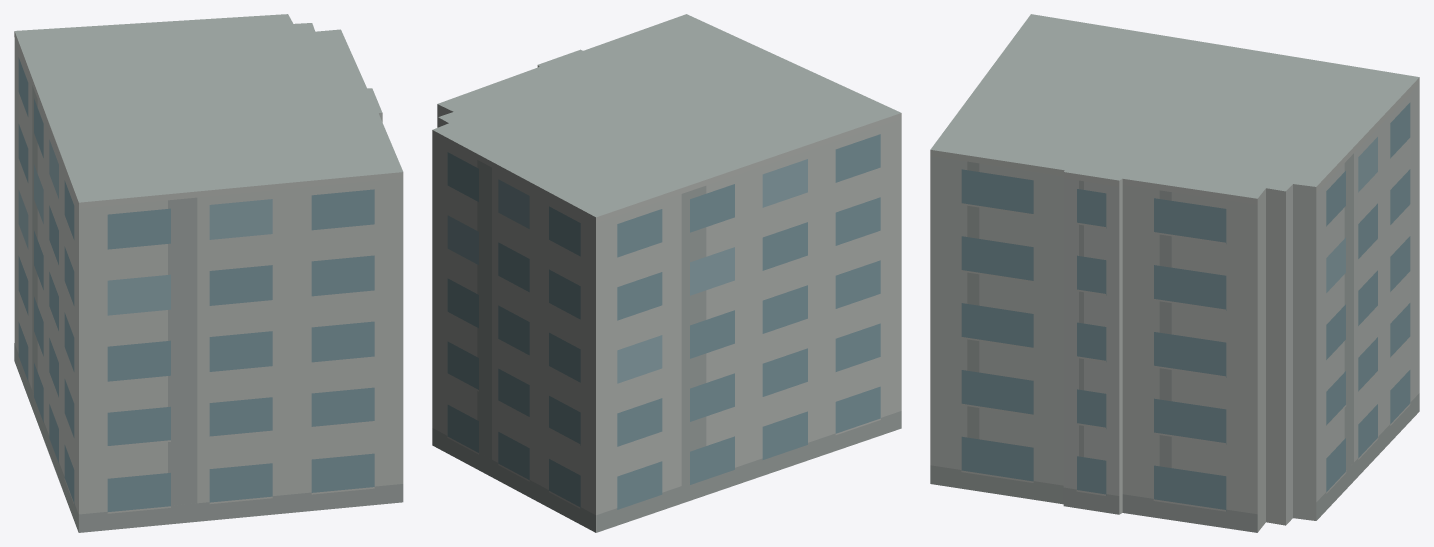
File: survey-upis-32852674.glb
3 renders of one model, left to right at view 1: azimuth 30°, elevation 25°; view 2: azimuth 150°, elevation 25°; view 3: azimuth 270°, elevation 25°, orthographic. The views are drawn at different scales.
Visible parts, largest first — view 1: survey-upis-32852674.tmp; view 2: survey-upis-32852674.tmp; view 3: survey-upis-32852674.tmp.
Part boxes in pixels (x1=…): survey-upis-32852674.tmp: x1=14, y1=14, x2=403, y2=532; survey-upis-32852674.tmp: x1=432, y1=14, x2=901, y2=532; survey-upis-32852674.tmp: x1=930, y1=14, x2=1419, y2=532.
Size of the model in its own units: 15.66 by 13.2 by 17.53.
